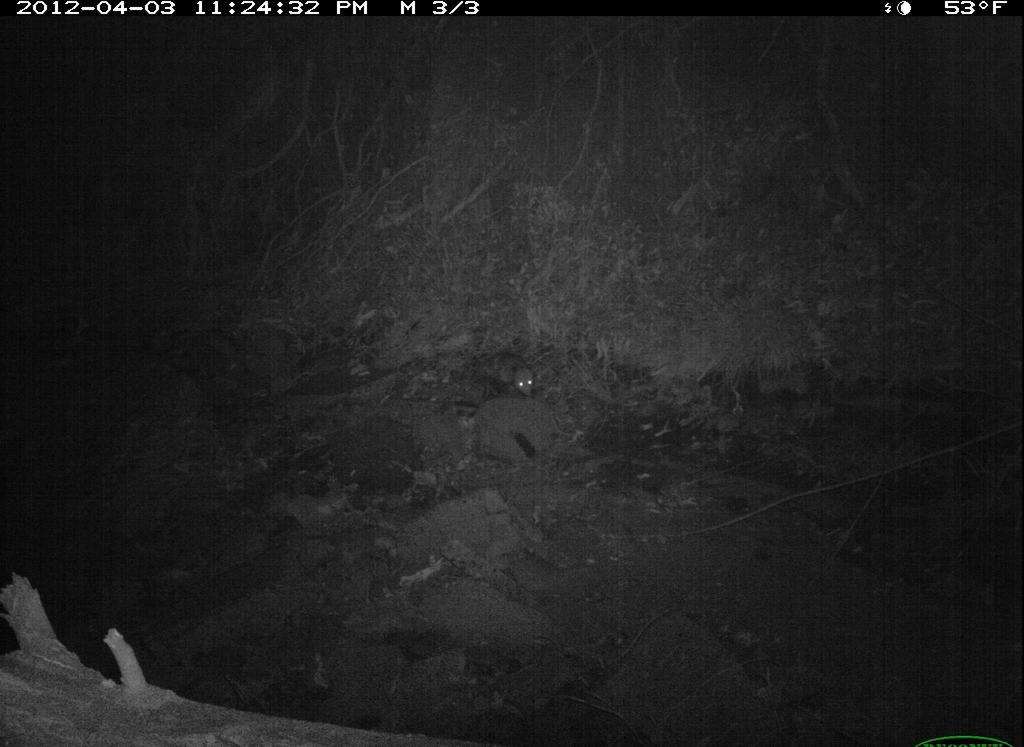opossum: (460, 347, 558, 402)
